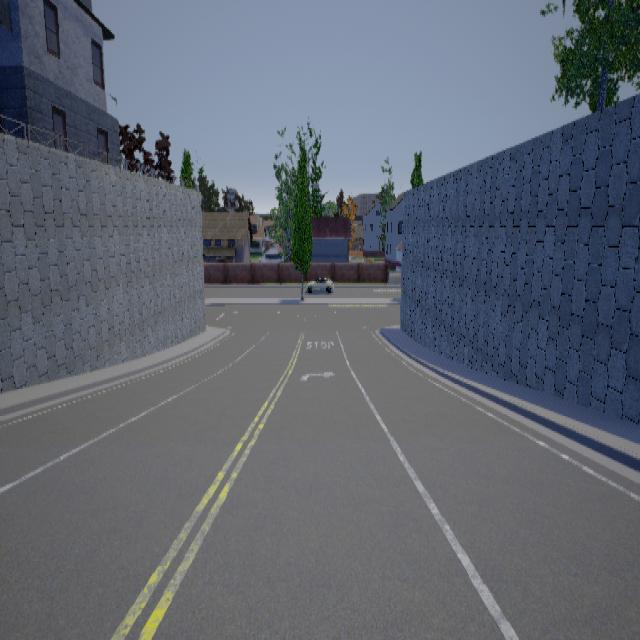vehicle: (304, 275, 333, 293)
